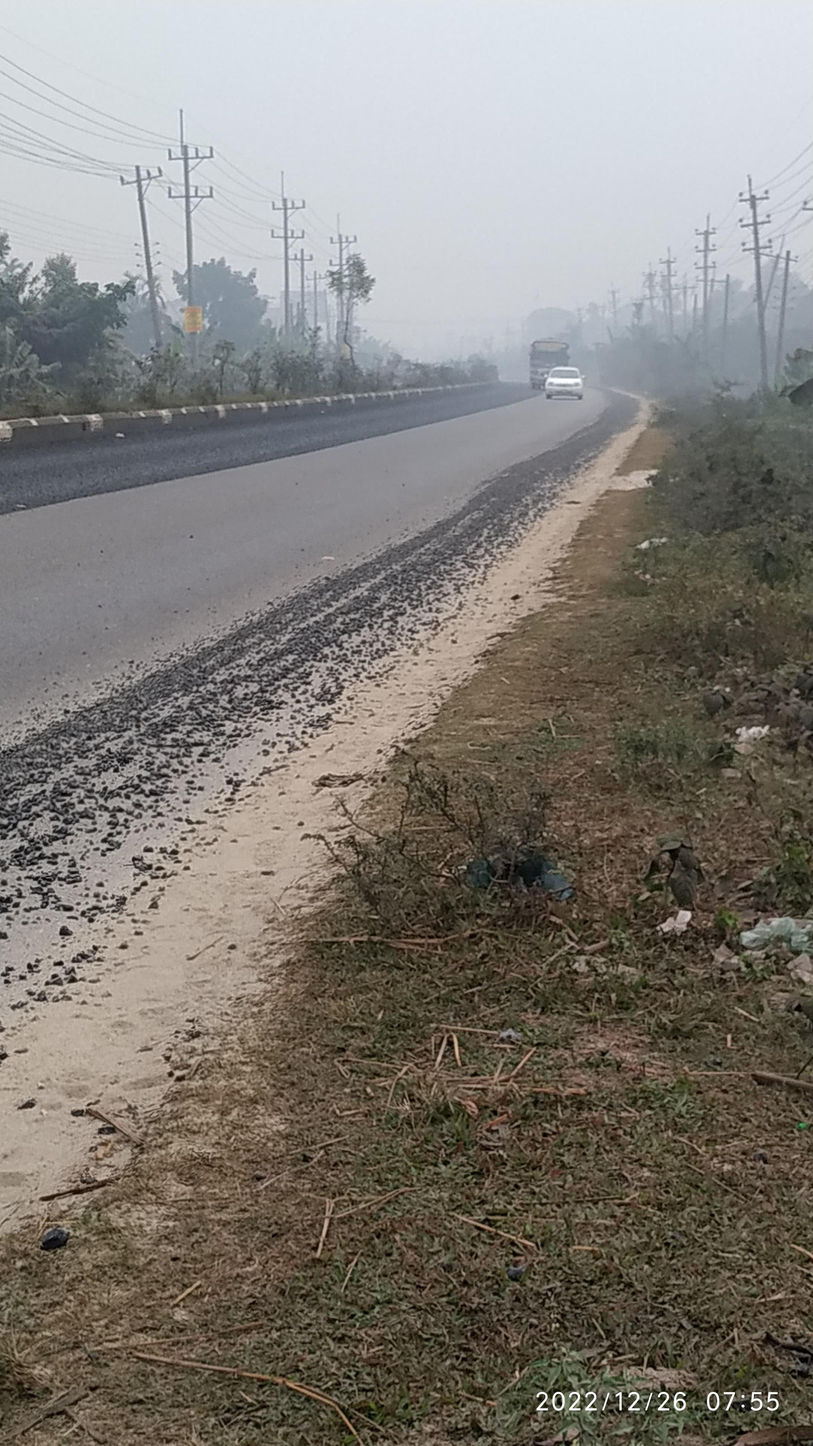Bus: (522, 328, 576, 394)
Car: (536, 362, 593, 412)
